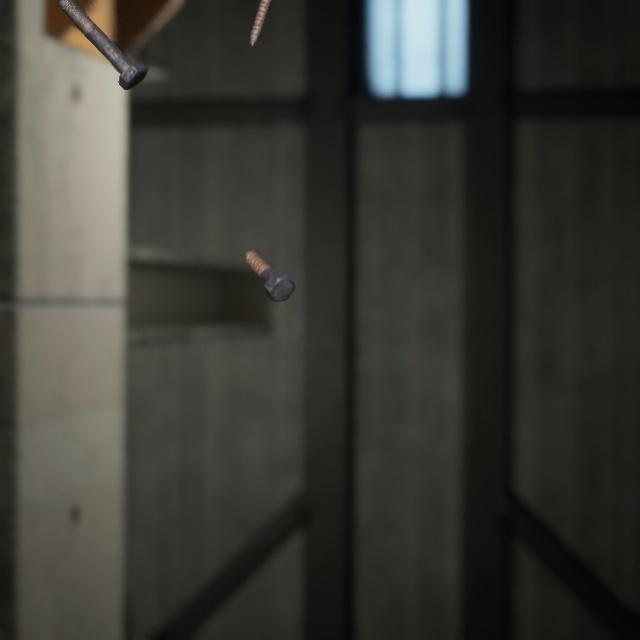bolt: (56, 0, 151, 85), (240, 228, 300, 288), (244, 0, 273, 43)
